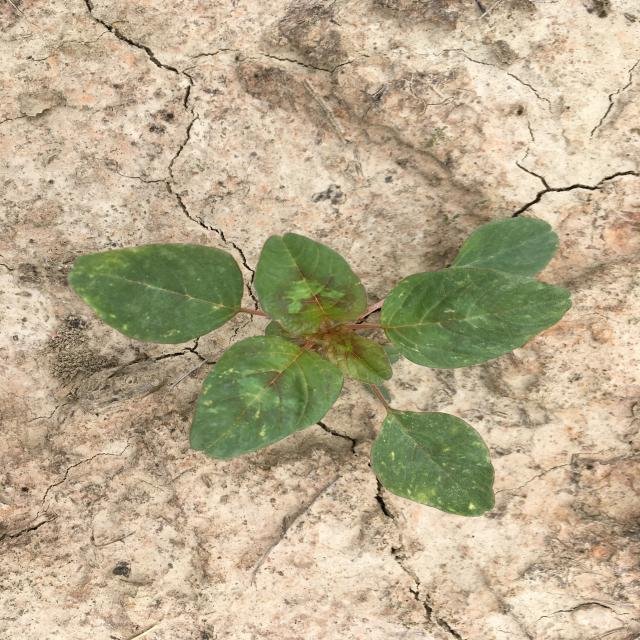PalmerAmaranth: (67, 216, 574, 517)
